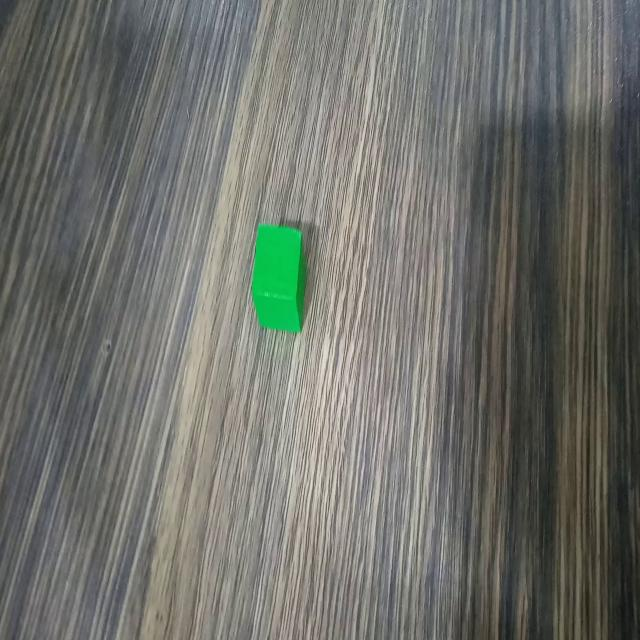cube: (249, 216, 308, 337)
